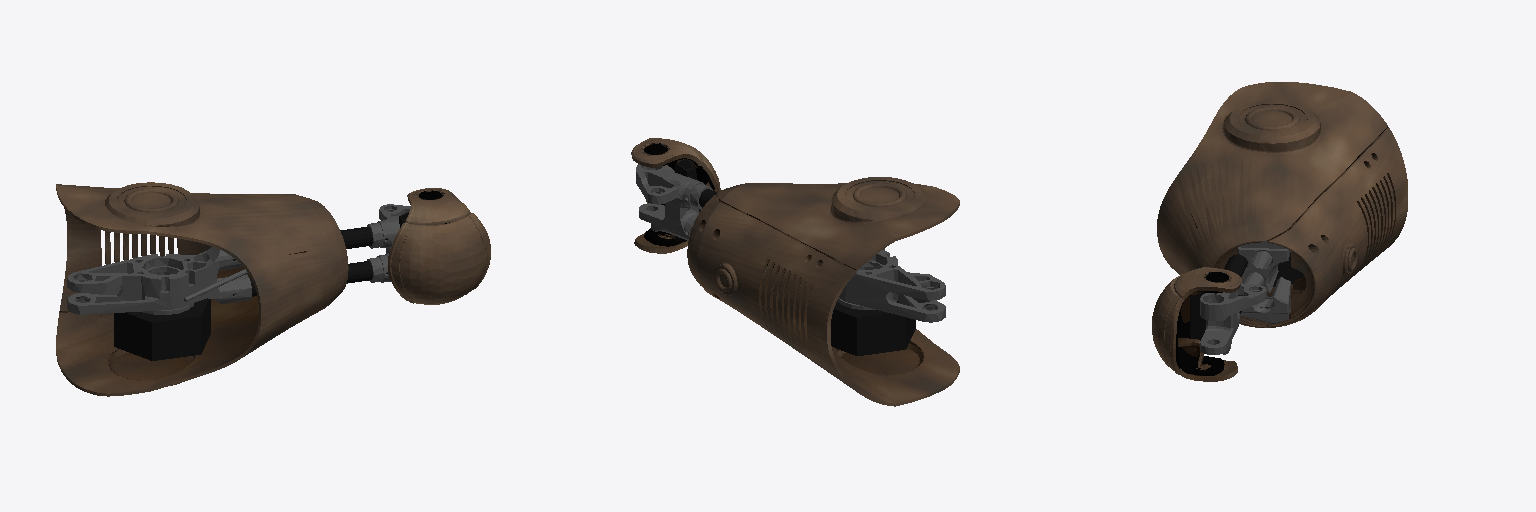
3 views of the same model, side by side, from view 1: azimuth 30°, elevation 25°; view 2: azimuth 150°, elevation 25°; view 3: azimuth 270°, elevation 25° (orthographic).
Visible parts, largest first — view 1: tibia_r.001; view 2: tibia_r.001; view 3: tibia_r.001.
Part boxes in pixels (bbox=[...]): tibia_r.001: bbox=[56, 182, 490, 396]; tibia_r.001: bbox=[631, 138, 959, 406]; tibia_r.001: bbox=[1152, 82, 1407, 381].
Bounding box in the file's own units: 0.3214 × 0.1458 × 0.1966.
Materials: 4 (1 with a texture image).